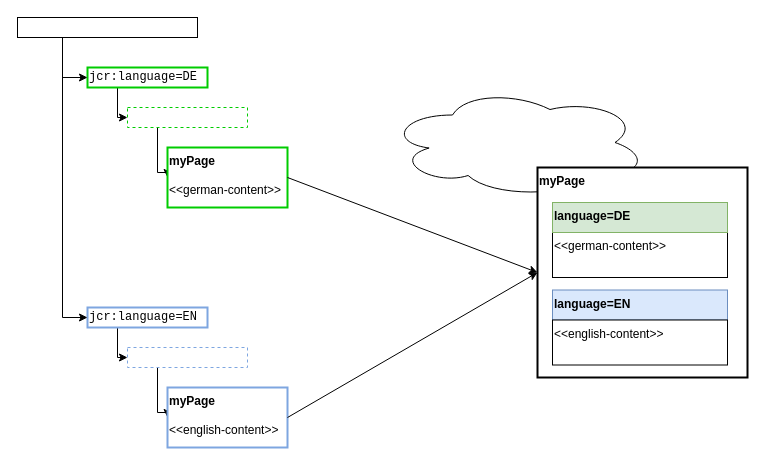
Some shapes in this 766 by 466 pixel diagram are drawn without their labels. Here are the shapes that lost their labels. From the top down, the centre of each, then its label:
At pixel 107 27: "dwreLibrary=mySharedLib".
At pixel 517 142: "Salesforce".
